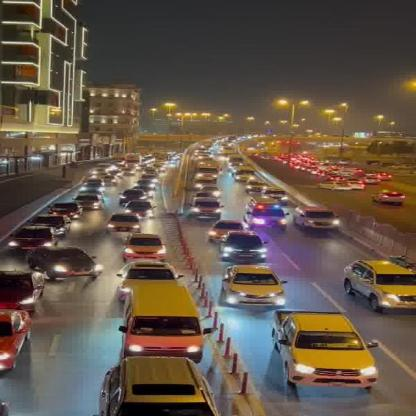priority: (242, 196, 292, 232)
